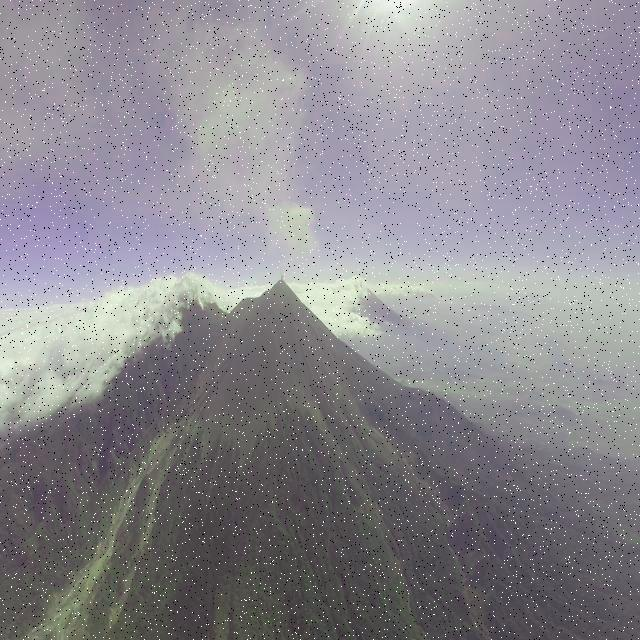Plume: (278, 264, 286, 282)
Summit: (263, 278, 298, 300)
